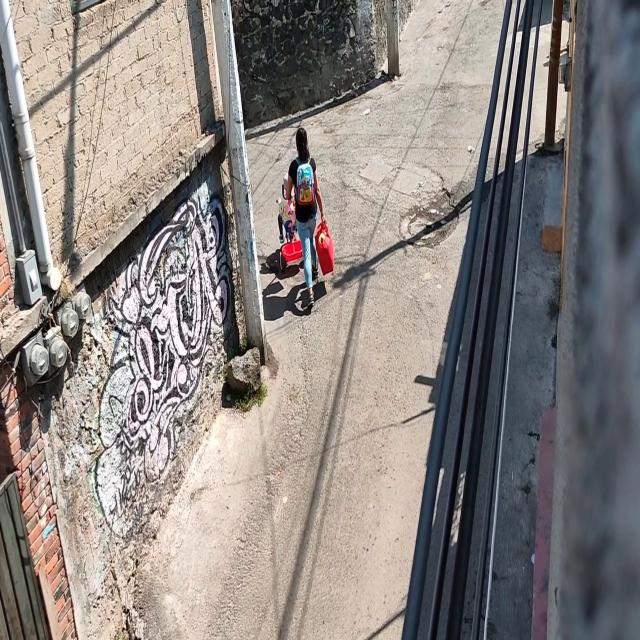adult: (285, 127, 328, 312)
